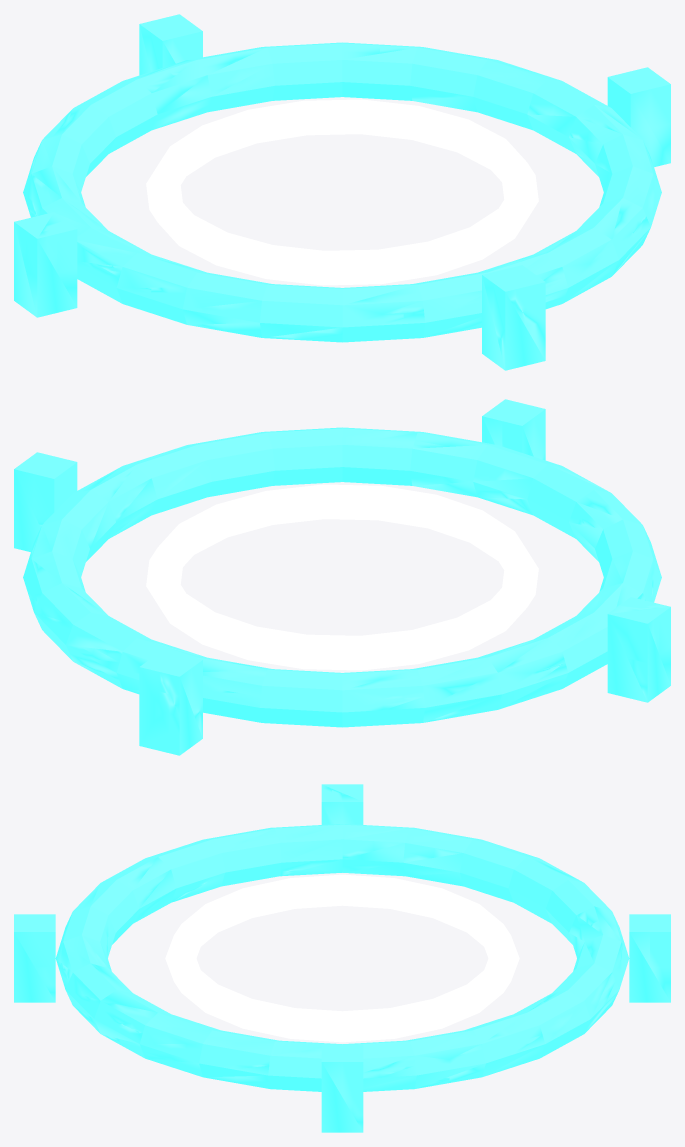
Rendered from transfer_ring.glb.
3 views of the same model, one above another, from view 1: azimuth 30°, elevation 25°; view 2: azimuth 150°, elevation 25°; view 3: azimuth 270°, elevation 25° (orthographic). The views are drawn at different scales.
Visible parts, largest first — view 1: MetroTransferRing; view 2: MetroTransferRing; view 3: MetroTransferRing.
Boxes of the visible parts, box(x1,y1,x2,y2) form: MetroTransferRing: box(14, 14, 670, 370); MetroTransferRing: box(14, 399, 670, 755); MetroTransferRing: box(14, 784, 670, 1132).
Size of the model in its own units: 2.52 by 0.3 by 2.52.
